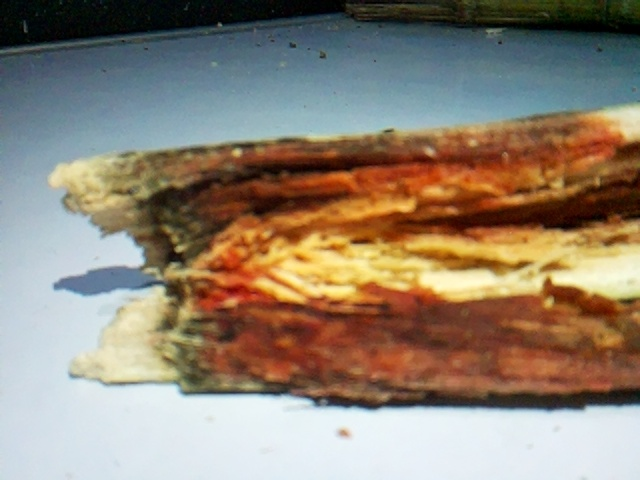Red-Rot: (95, 125, 640, 399)
